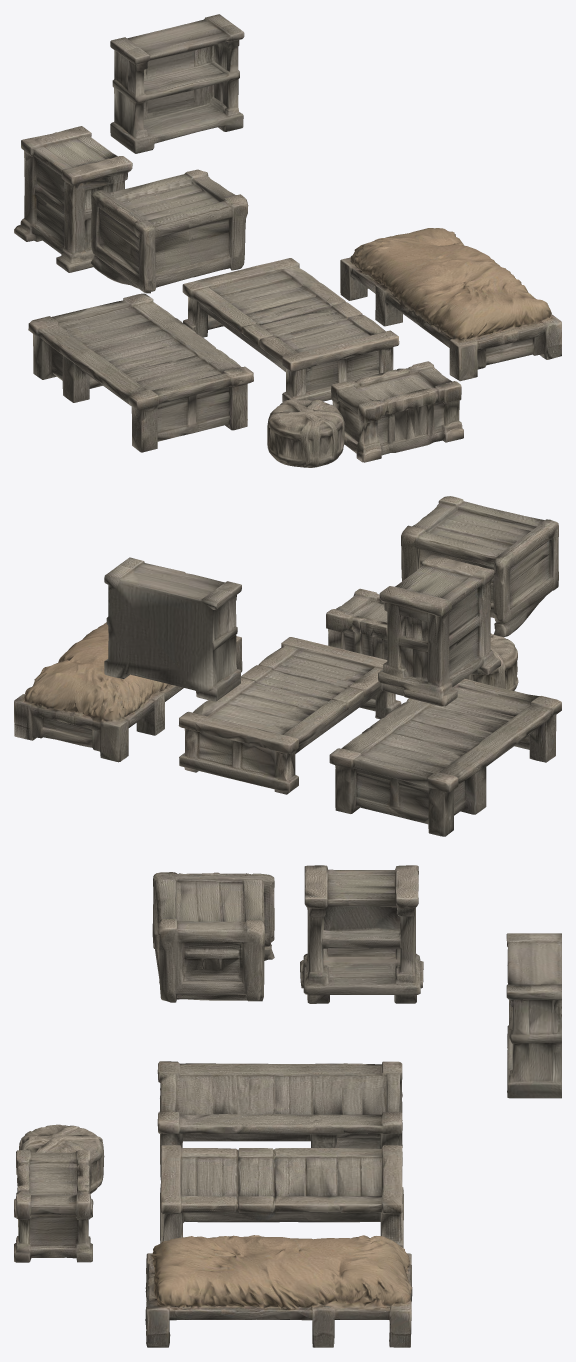
The model's file is furniture_sheet_rustic_b.glb.
3 renders of one model, top to bottom at view 1: azimuth 30°, elevation 25°; view 2: azimuth 150°, elevation 25°; view 3: azimuth 270°, elevation 25°, orthographic. The views are drawn at different scales.
Bounding box in the file's own units: 1.89 × 1.04 × 1.9.
1 material, 1 textured.
